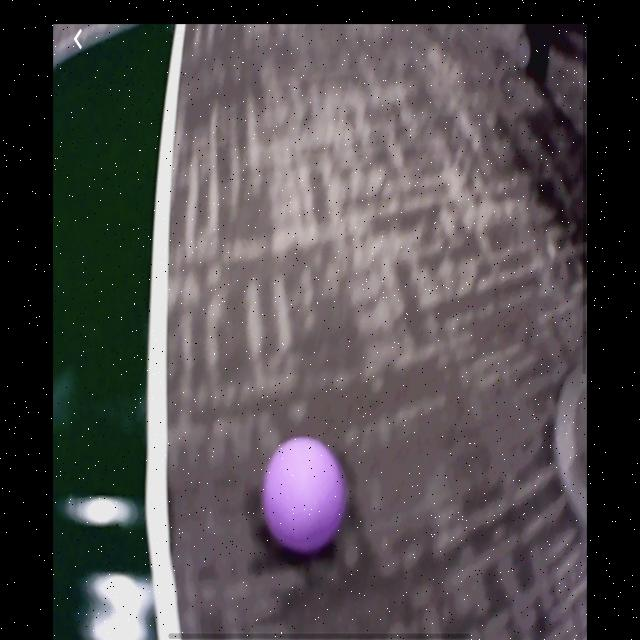ball: (264, 434, 344, 554)
